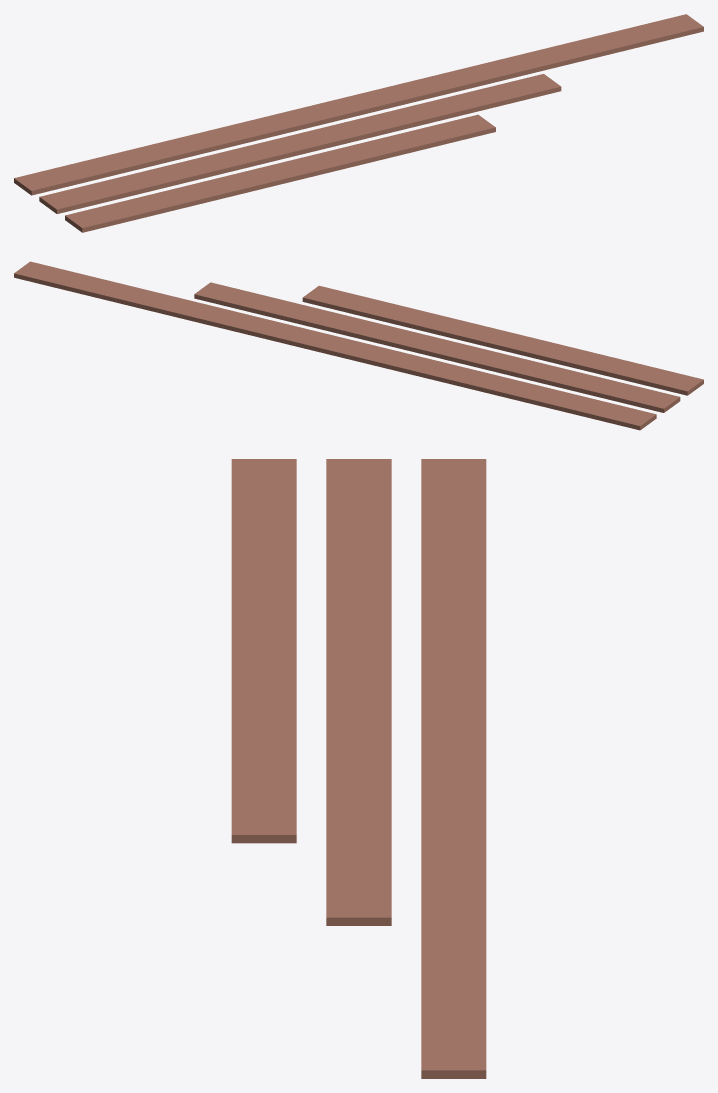
File: floor-board-220x32-smooth_ipe_v0.1.glb
3 renders of one model, top to bottom at view 1: azimuth 30°, elevation 25°; view 2: azimuth 150°, elevation 25°; view 3: azimuth 270°, elevation 25°, orthographic. The views are drawn at different scales.
Parts seen in each view (by area): view 1: IB-15230_floor-board-220x32-smooth_ipe_4880mm, IB-15220_floor-board-220x32-smooth_ipe_3660mm, IB-15210_floor-board-220x32-smooth_ipe_3000mm; view 2: IB-15230_floor-board-220x32-smooth_ipe_4880mm, IB-15220_floor-board-220x32-smooth_ipe_3660mm, IB-15210_floor-board-220x32-smooth_ipe_3000mm; view 3: IB-15230_floor-board-220x32-smooth_ipe_4880mm, IB-15220_floor-board-220x32-smooth_ipe_3660mm, IB-15210_floor-board-220x32-smooth_ipe_3000mm.
Boxes of the visible parts, x1=… form: IB-15230_floor-board-220x32-smooth_ipe_4880mm: x1=14, y1=14, x2=703, y2=195; IB-15220_floor-board-220x32-smooth_ipe_3660mm: x1=39, y1=74, x2=561, y2=213; IB-15210_floor-board-220x32-smooth_ipe_3000mm: x1=65, y1=114, x2=495, y2=232; IB-15230_floor-board-220x32-smooth_ipe_4880mm: x1=14, y1=261, x2=656, y2=430; IB-15220_floor-board-220x32-smooth_ipe_3660mm: x1=194, y1=282, x2=680, y2=412; IB-15210_floor-board-220x32-smooth_ipe_3000mm: x1=302, y1=285, x2=703, y2=395; IB-15230_floor-board-220x32-smooth_ipe_4880mm: x1=421, y1=459, x2=486, y2=1078; IB-15220_floor-board-220x32-smooth_ipe_3660mm: x1=326, y1=459, x2=391, y2=925; IB-15210_floor-board-220x32-smooth_ipe_3000mm: x1=231, y1=459, x2=296, y2=843.
Bounding box in the file's own units: 4.88 × 0.032 × 0.86.
